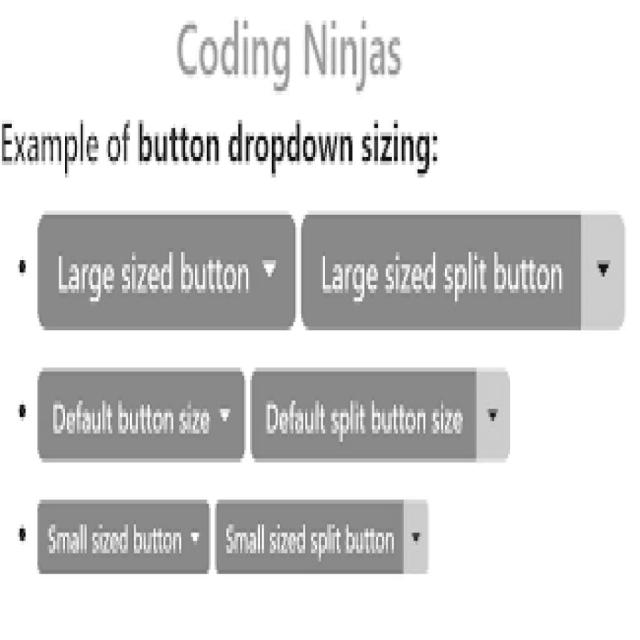dropdownMenu: (301, 215, 626, 331), (39, 215, 296, 330), (252, 368, 510, 463), (38, 369, 246, 463), (216, 500, 430, 576), (37, 500, 211, 573)
label: (172, 8, 413, 102)
